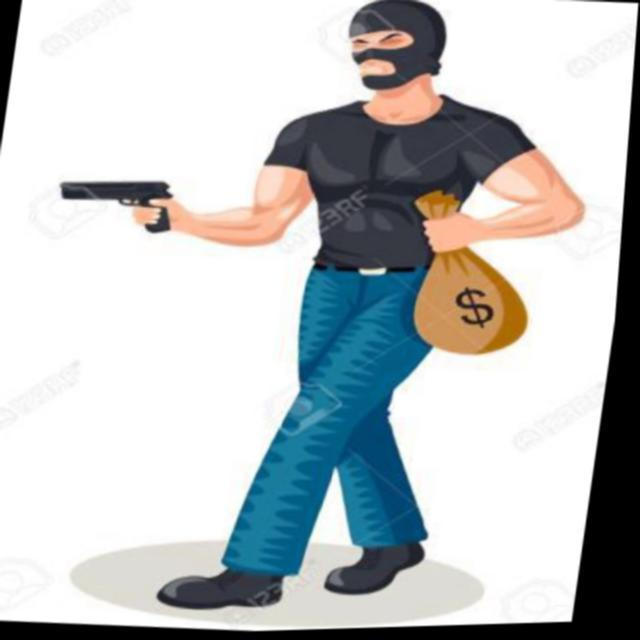weapon: (48, 164, 212, 250)
